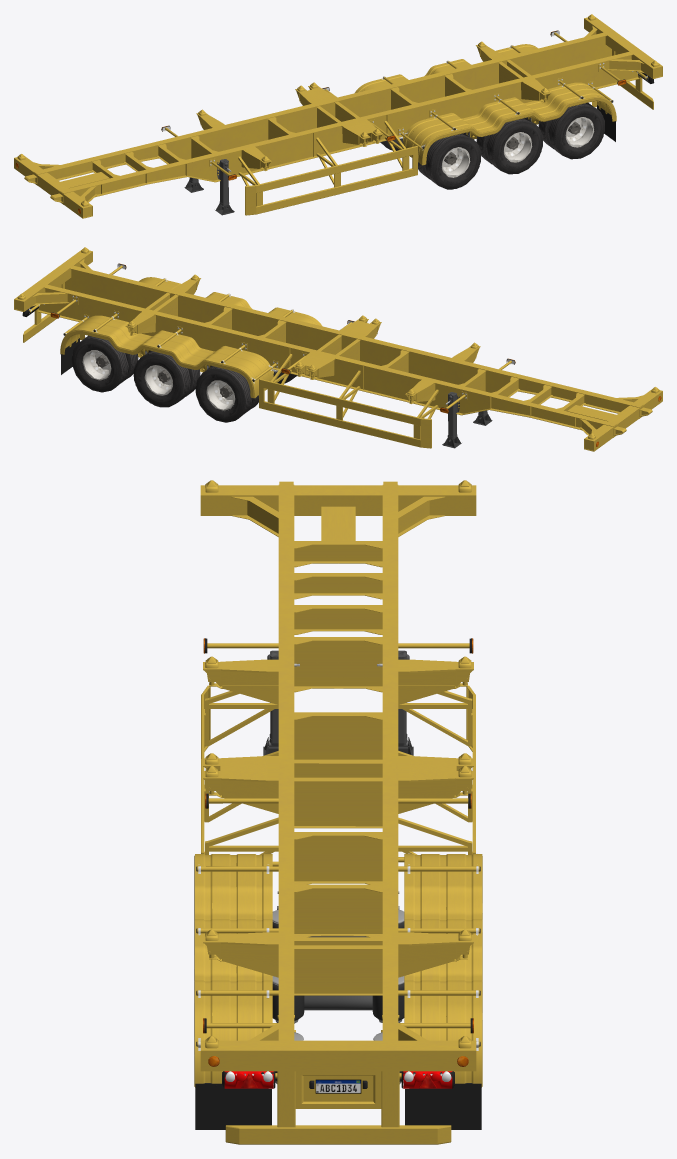
Rendered from chassi-para-carreta-14-15.glb.
3 renders of one model, top to bottom at view 1: azimuth 30°, elevation 25°; view 2: azimuth 150°, elevation 25°; view 3: azimuth 270°, elevation 25°, orthographic. The views are drawn at different scales.
Parts seen in each view (by area): view 1: container_trailer_7, Plane.028_1, Plane.029_2, Plane.014_0; view 2: container_trailer_7, Plane.034_3, Plane.023_6, Plane.026_5; view 3: container_trailer_7, Plane.004_4.
Boxes of the visible parts, x1,y1,x2,y2 form: container_trailer_7: [14, 14, 662, 218]; Plane.028_1: [476, 117, 542, 174]; Plane.029_2: [538, 102, 604, 159]; Plane.014_0: [418, 133, 480, 189]; container_trailer_7: [14, 247, 662, 451]; Plane.034_3: [133, 350, 200, 407]; Plane.023_6: [71, 335, 138, 392]; Plane.026_5: [195, 366, 258, 422]; container_trailer_7: [194, 480, 482, 1144]; Plane.004_4: [272, 891, 404, 1083].
Size of the model in its own units: 12.48 by 1.56 by 2.64.
Materials: 27 (9 with a texture image).
